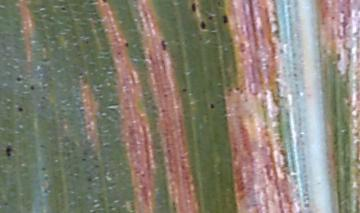tarspot: (197, 20, 209, 32), (4, 144, 14, 157), (220, 12, 230, 25), (189, 1, 198, 14), (159, 38, 167, 51), (122, 40, 132, 50), (238, 41, 246, 53), (16, 105, 26, 114), (14, 74, 24, 83), (29, 82, 36, 92), (208, 101, 215, 109), (205, 14, 214, 20), (181, 86, 188, 93), (234, 86, 241, 93), (227, 86, 233, 93)
